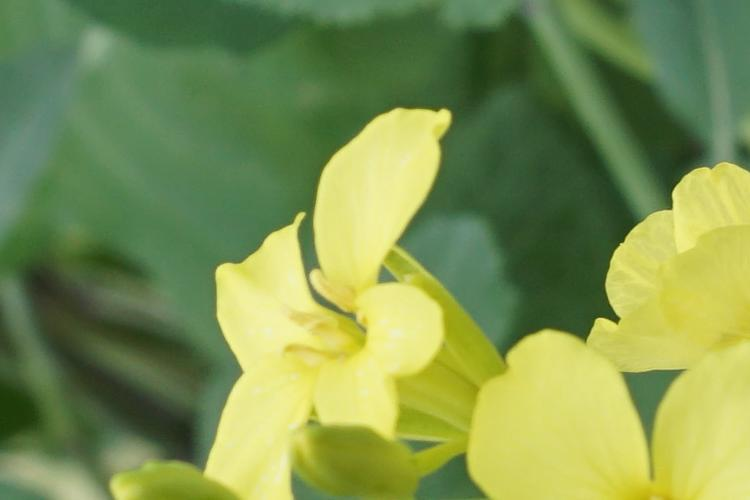bud: (291, 422, 425, 497), (102, 454, 247, 500)
yellow: (162, 100, 476, 447), (458, 328, 749, 500), (595, 170, 750, 366)
